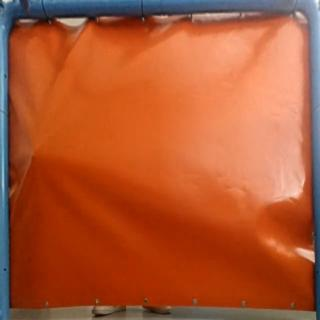Hit-hRxx: (27, 146, 42, 166)
